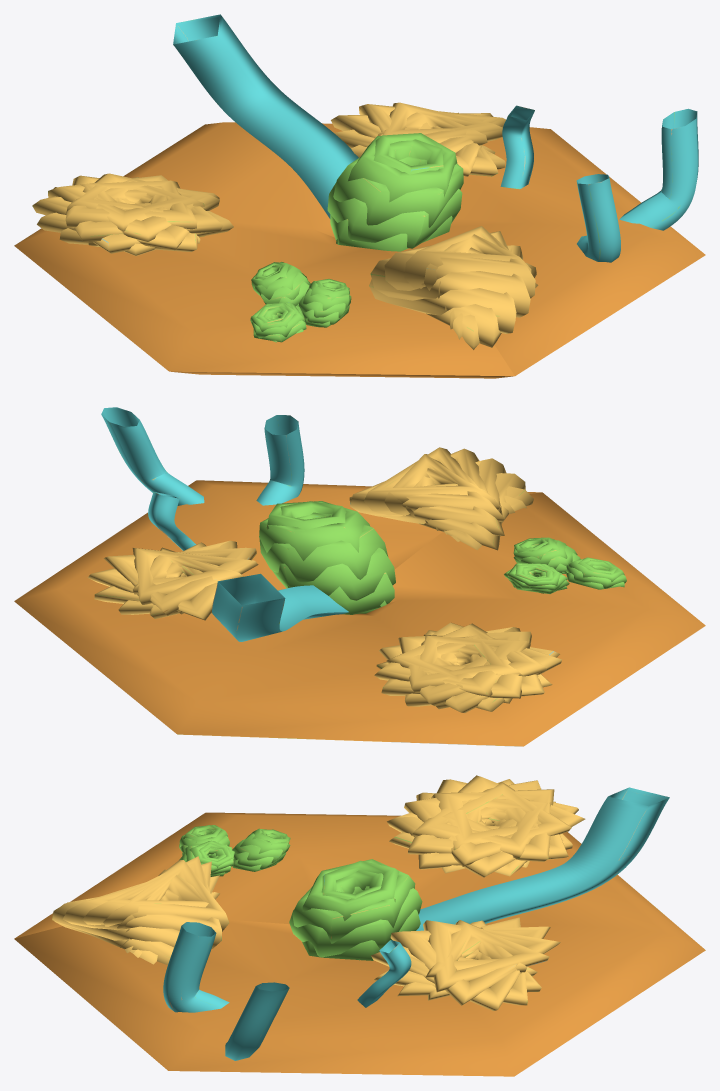
File: Coral.fbx
The picture shows the model from 3 angles, top to bottom: view 1: azimuth 30°, elevation 25°; view 2: azimuth 150°, elevation 25°; view 3: azimuth 270°, elevation 25°; orthographic projection. The views are drawn at different scales.
Visible parts, largest first — view 1: Coral; view 2: Coral; view 3: Coral.
Part boxes in pixels (box(x1,y1,x2,y2)): Coral: box(14, 14, 705, 378); Coral: box(14, 407, 705, 746); Coral: box(14, 775, 705, 1076).
Size of the model in its own units: 1777 by 482 by 1839.
